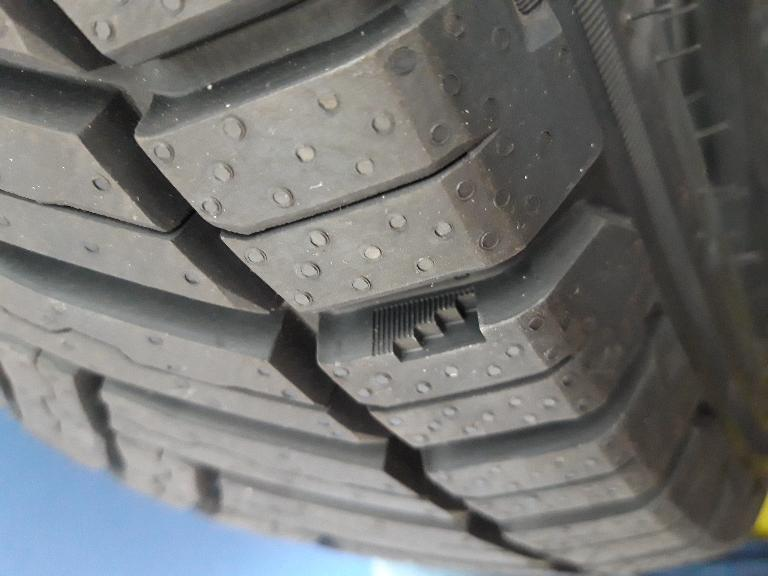temoin:100: (370, 286, 490, 365)
